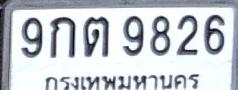2: (176, 14, 198, 55)
6: (204, 14, 224, 54)
8: (150, 15, 170, 55)
9: (20, 16, 42, 58), (123, 15, 144, 56)
A01: (49, 16, 75, 58)
A21: (83, 16, 109, 57)
BKK: (43, 70, 201, 90)
